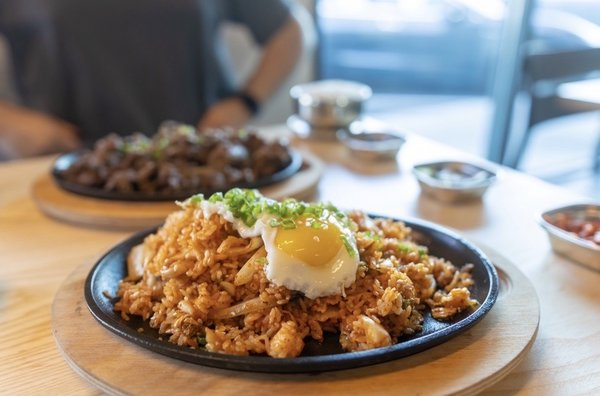sushi: (54, 189, 501, 380), (538, 201, 600, 274), (289, 78, 373, 129), (336, 118, 408, 176), (411, 159, 498, 201)
